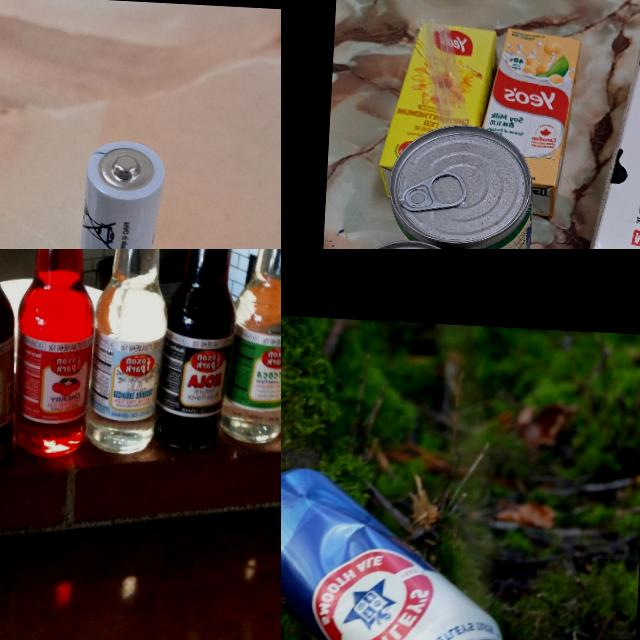aba de lata: (398, 166, 468, 216)
bateria: (71, 138, 166, 249)
caixinha: (378, 21, 498, 202), (477, 28, 579, 220), (570, 0, 640, 249)
garrafa de vidro: (10, 249, 102, 464), (83, 249, 178, 455), (154, 249, 246, 452), (219, 249, 281, 448)
lata: (281, 464, 522, 640), (383, 122, 533, 249)
